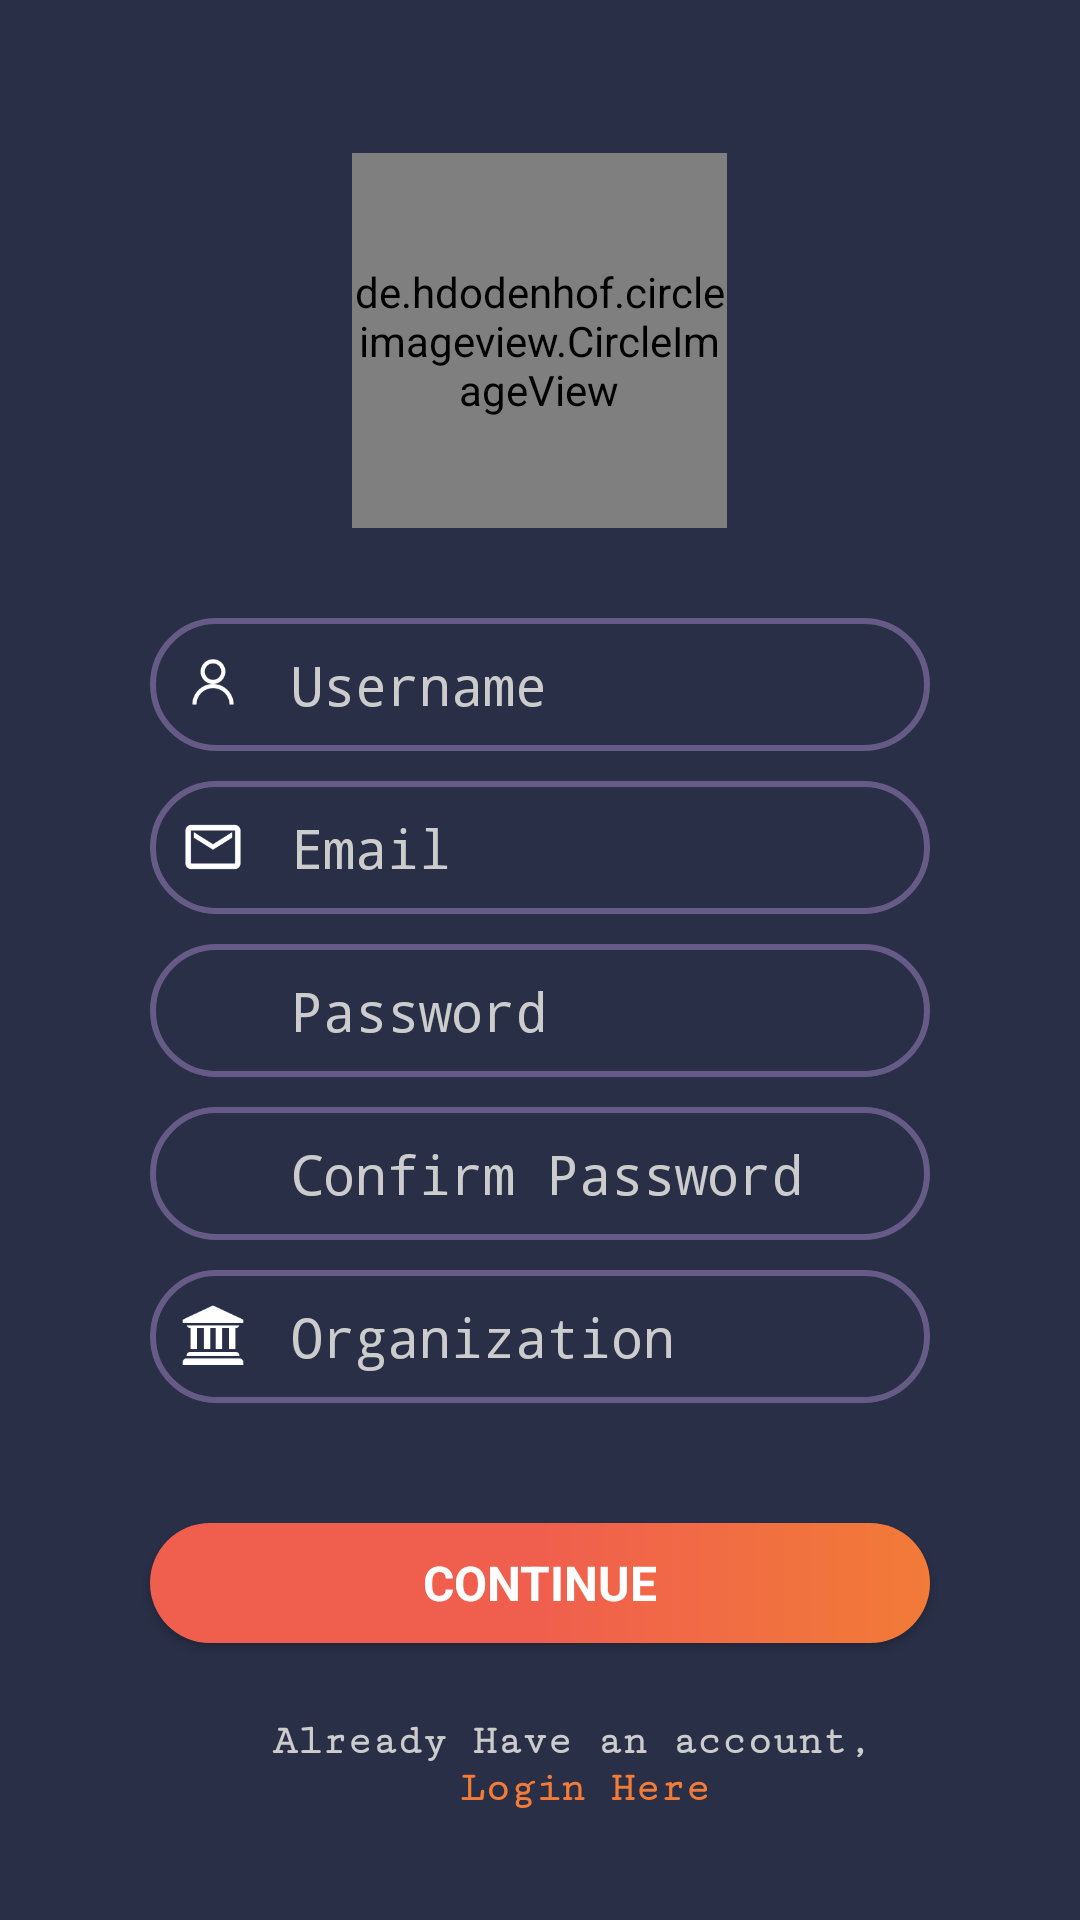

Screen size 1080w x 1920h. Icon name, then its box in pixels as bbox=(x1, y1, x2, y2):
univ: bbox=(182, 1305, 244, 1365)
